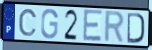2: (64, 9, 80, 42)
C: (18, 8, 38, 37)
D: (127, 12, 146, 45)
E: (82, 8, 104, 43)
G: (40, 8, 59, 40)
R: (103, 10, 126, 45)
